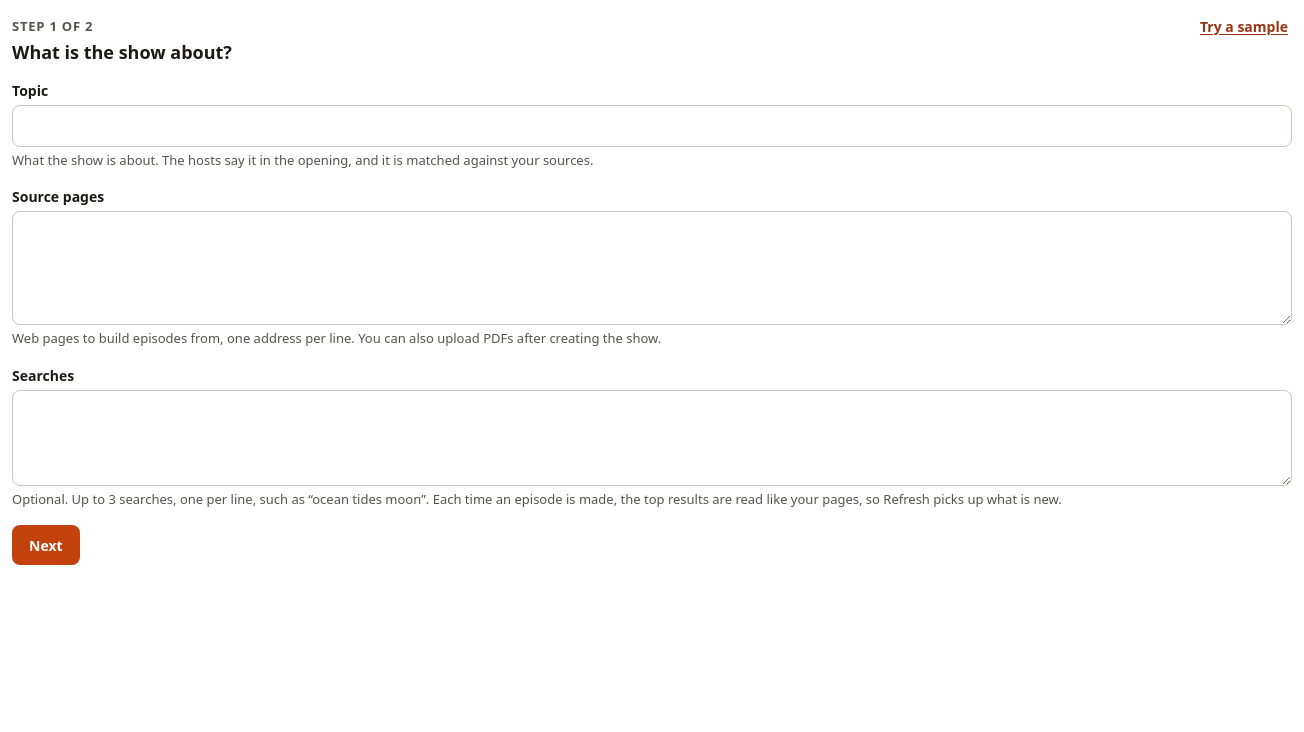
Test: new show wizard › asks for the topic before moving on
Click the button "Next".
click(46, 545)  # box [12,525,80,565]
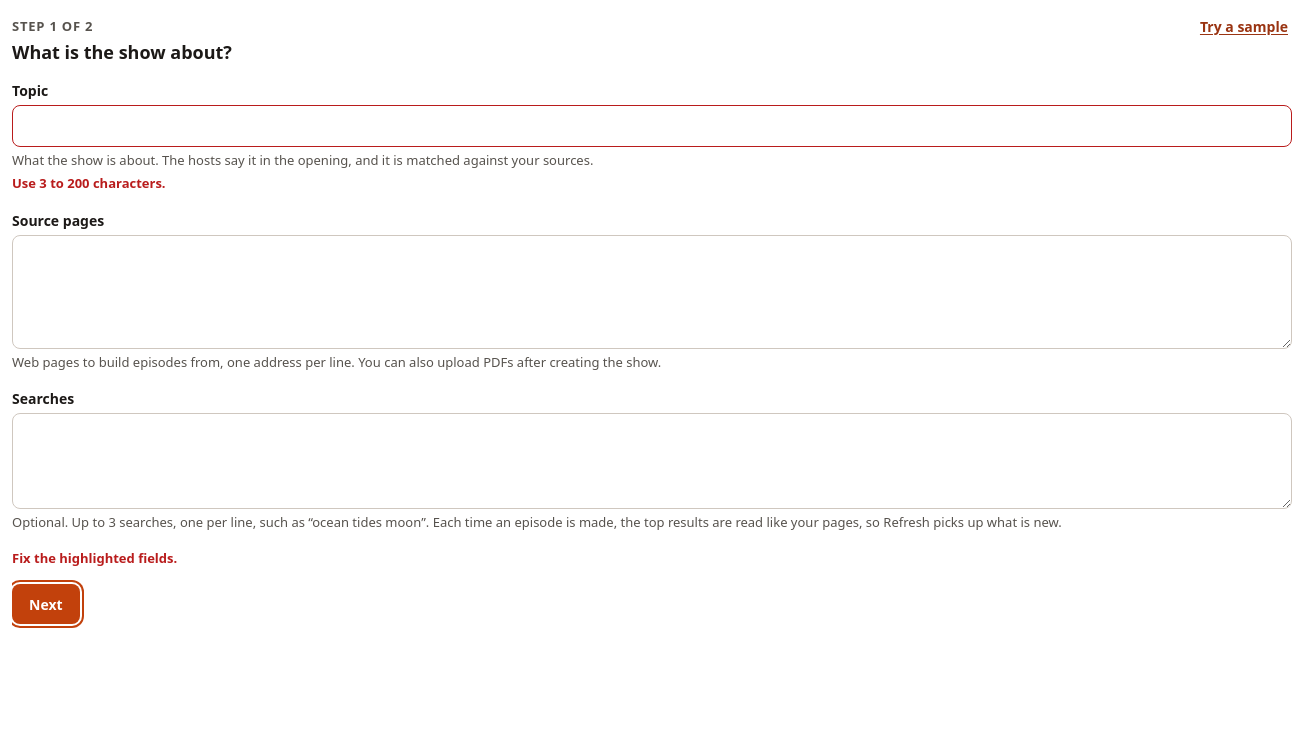
Expected: the heading "What is the show about?" is shown, [12,40,232,64]
Expected: the text "Use 3 to 200 characters." is shown, [12,174,166,192]
